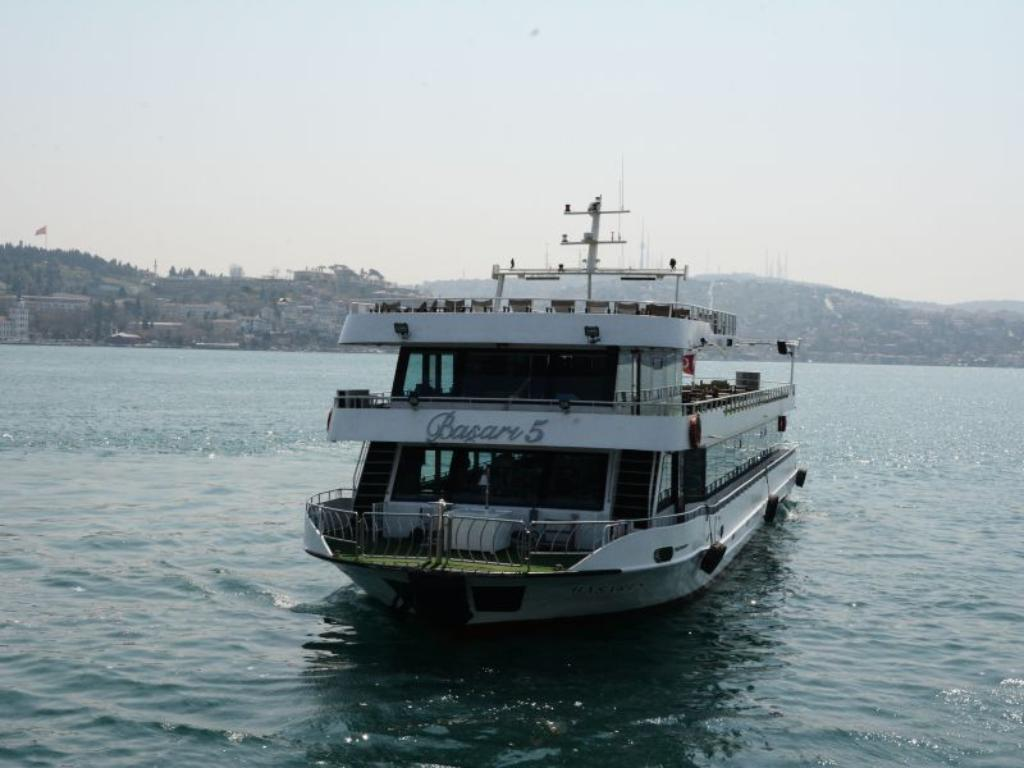PassengerShip: (283, 186, 817, 630)
